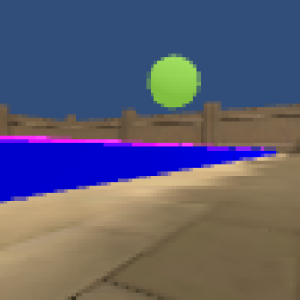goodGoal: (142, 49, 206, 114)
platform: (1, 145, 283, 194)
ramp: (1, 133, 202, 145)
